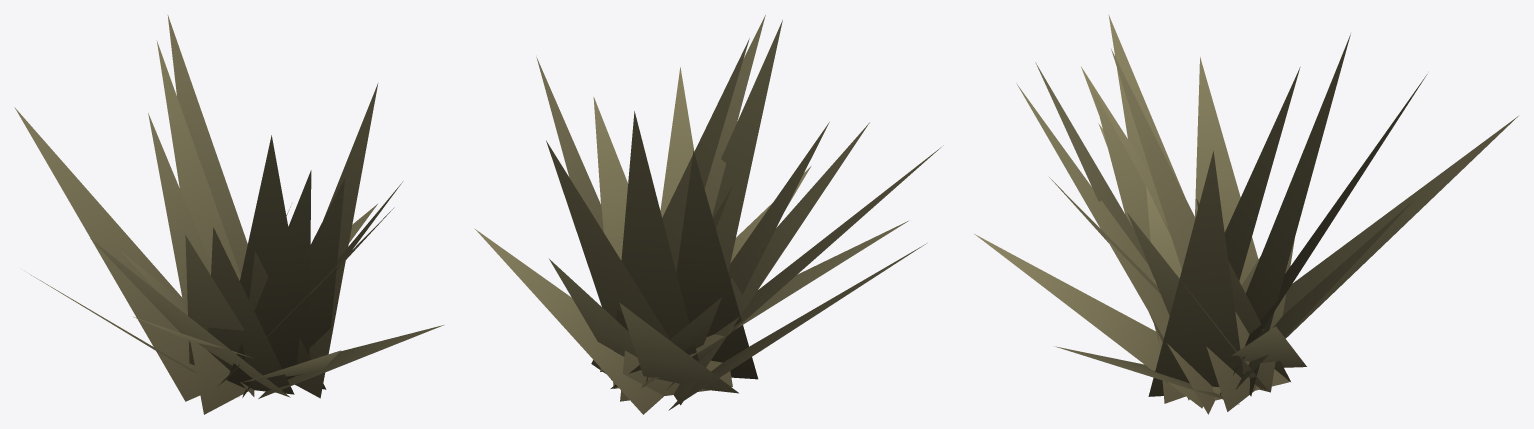
The model's file is shrub.glb.
3 views of the same model, side by side, from view 1: azimuth 30°, elevation 25°; view 2: azimuth 150°, elevation 25°; view 3: azimuth 270°, elevation 25° (orthographic). The views are drawn at different scales.
Parts seen in each view (by area): view 1: shrub; view 2: shrub; view 3: shrub.
Boxes of the visible parts, <box> form: shrub: <box>14,15,443,414</box>; shrub: <box>474,15,943,414</box>; shrub: <box>974,15,1518,414</box>.
Bounding box in the file's own units: 1.2 × 0.884 × 1.33.
